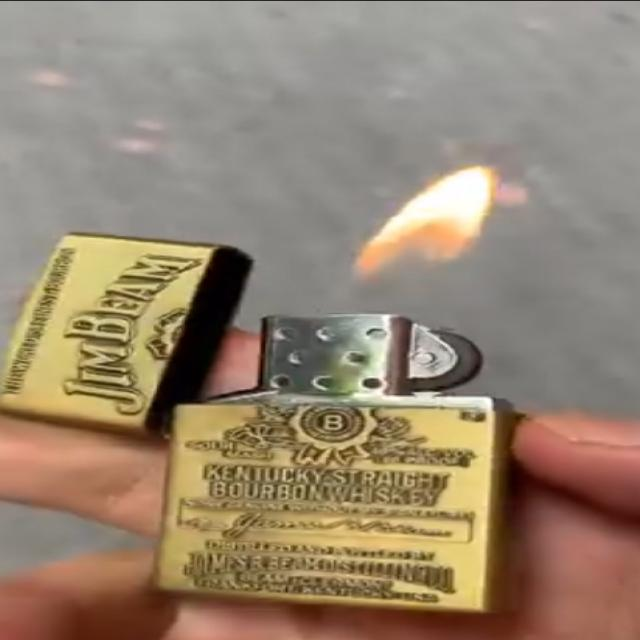fire: (351, 166, 491, 282)
